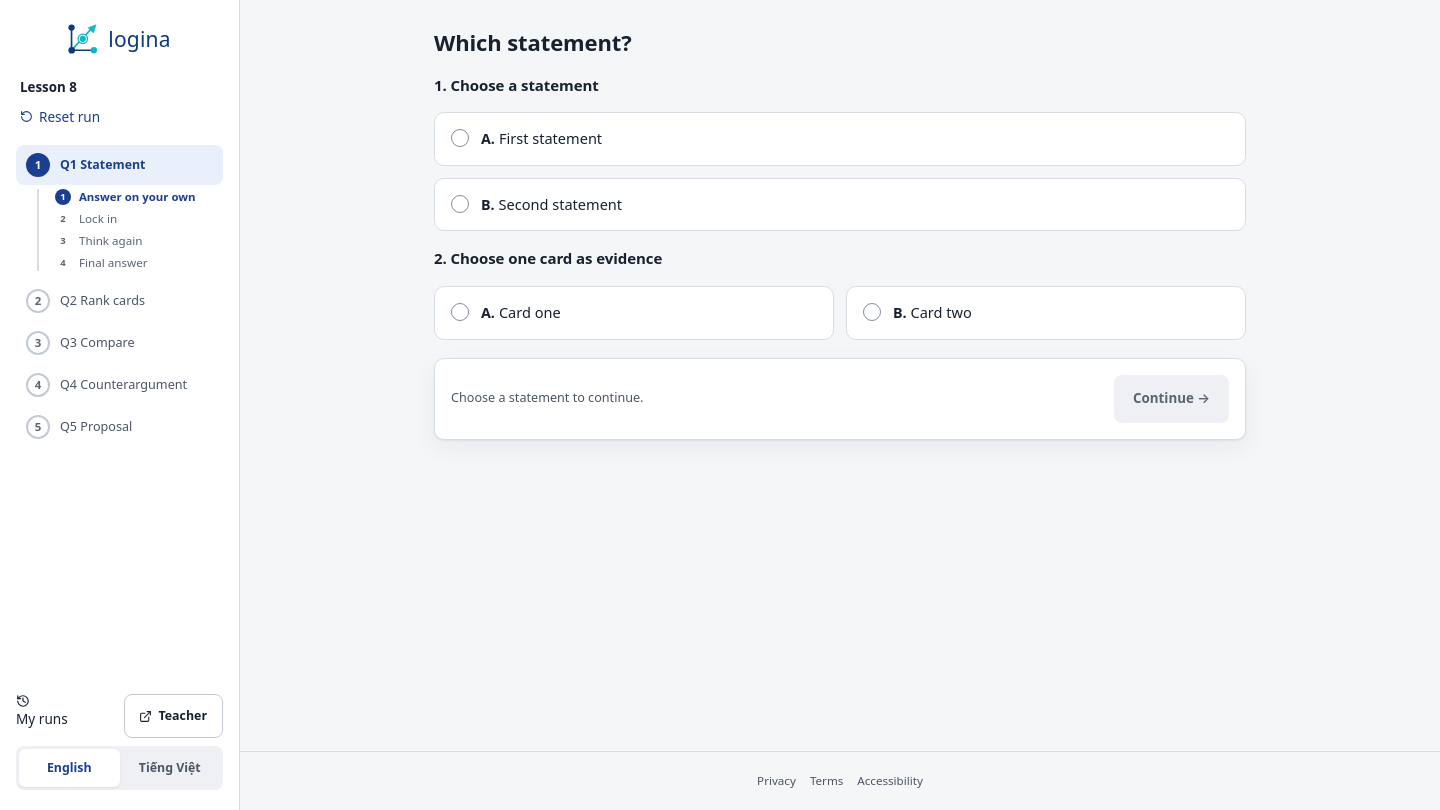
Test: Q1 flow › a refused draft is not sent again
Expected: the button "Continue →" is shown, [1114,375,1229,423]
Click the radio button labelled "A.First statement": point(551, 138) [434,112,1246,166]
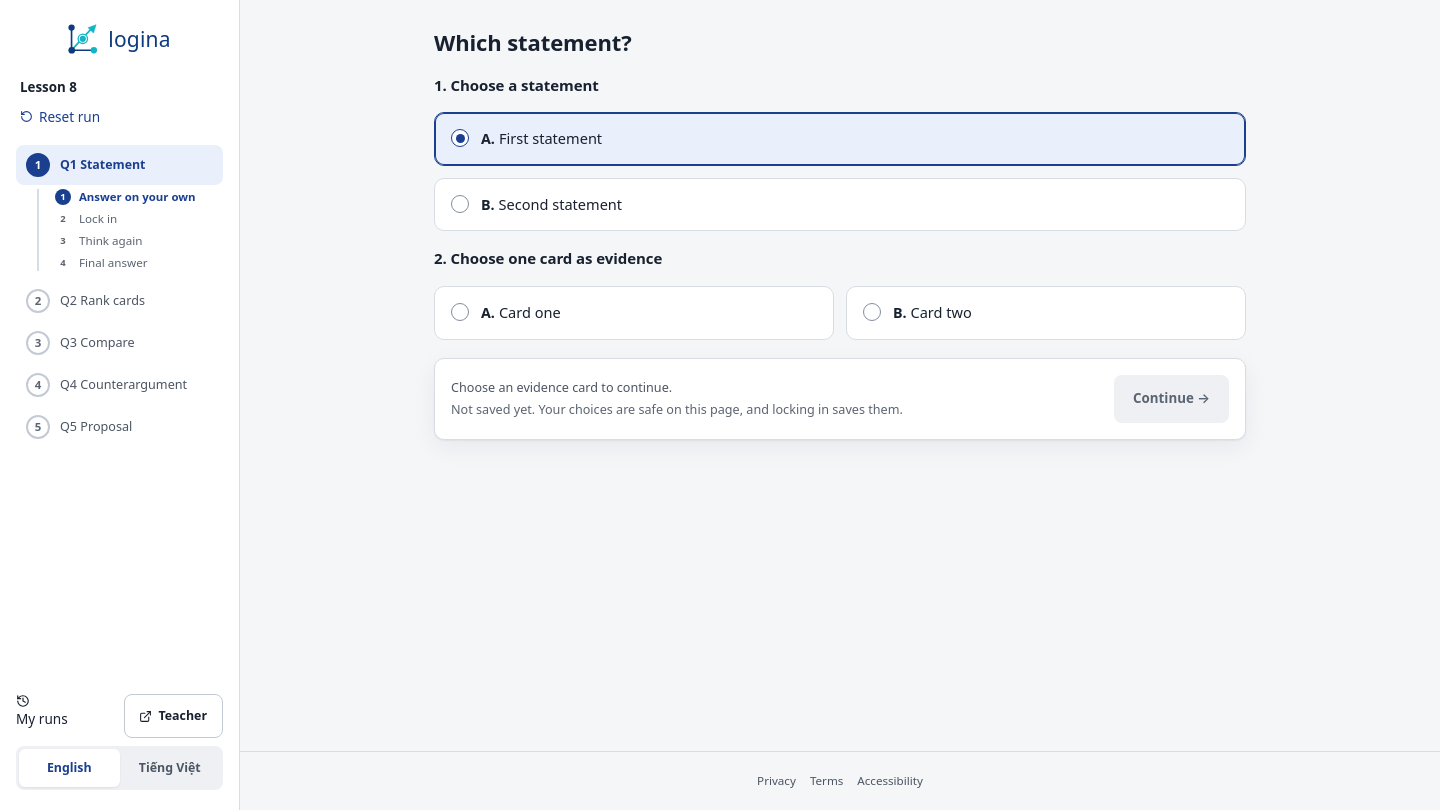
Expected: the text "Not saved yet. Your choices are safe on this page, and locking in saves them." is shown, [451,401,903,418]
